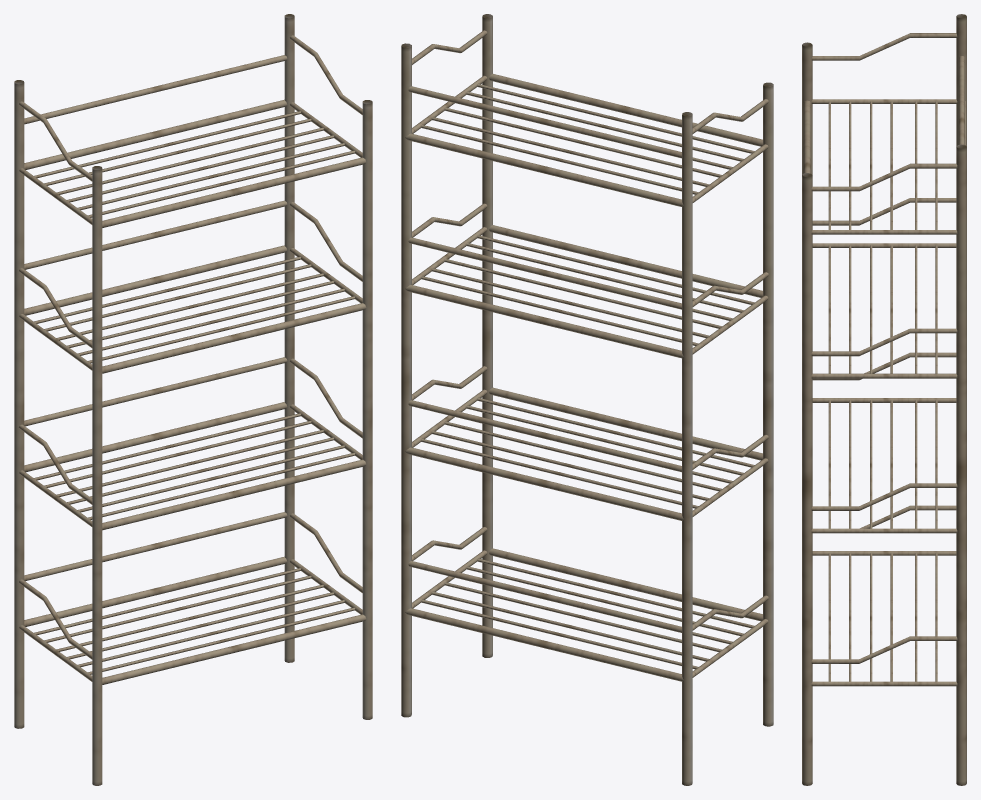
The model's file is To_ToiletShelf.FBX.
3 renders of one model, left to right at view 1: azimuth 30°, elevation 25°; view 2: azimuth 150°, elevation 25°; view 3: azimuth 270°, elevation 25°, orthographic. The views are drawn at different scales.
Parts seen in each view (by area): view 1: To_ToiletShelf; view 2: To_ToiletShelf; view 3: To_ToiletShelf.
Part boxes in pixels (box(x1,y1,x2,y2)): To_ToiletShelf: box(14, 14, 372, 785); To_ToiletShelf: box(401, 14, 773, 785); To_ToiletShelf: box(802, 14, 966, 785).
Size of the model in its own units: 62.03 by 137 by 32.03.
